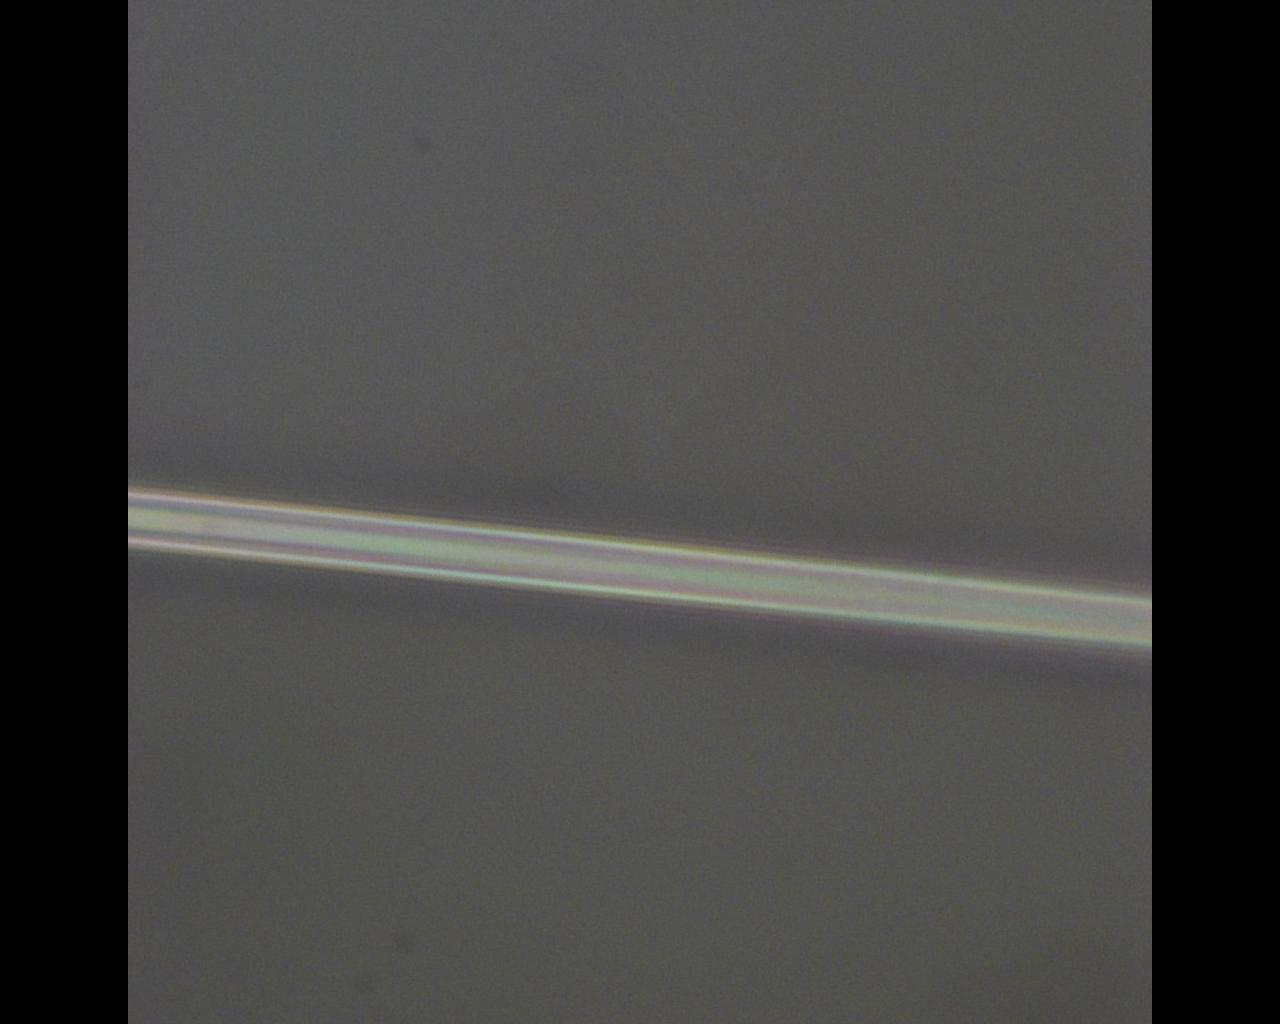fiber: (127, 484, 1151, 650)
